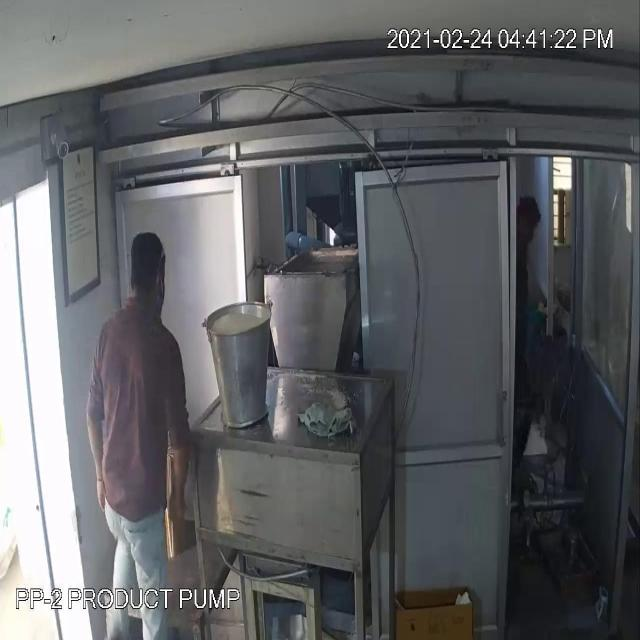no-helmet: (128, 232, 168, 299)
